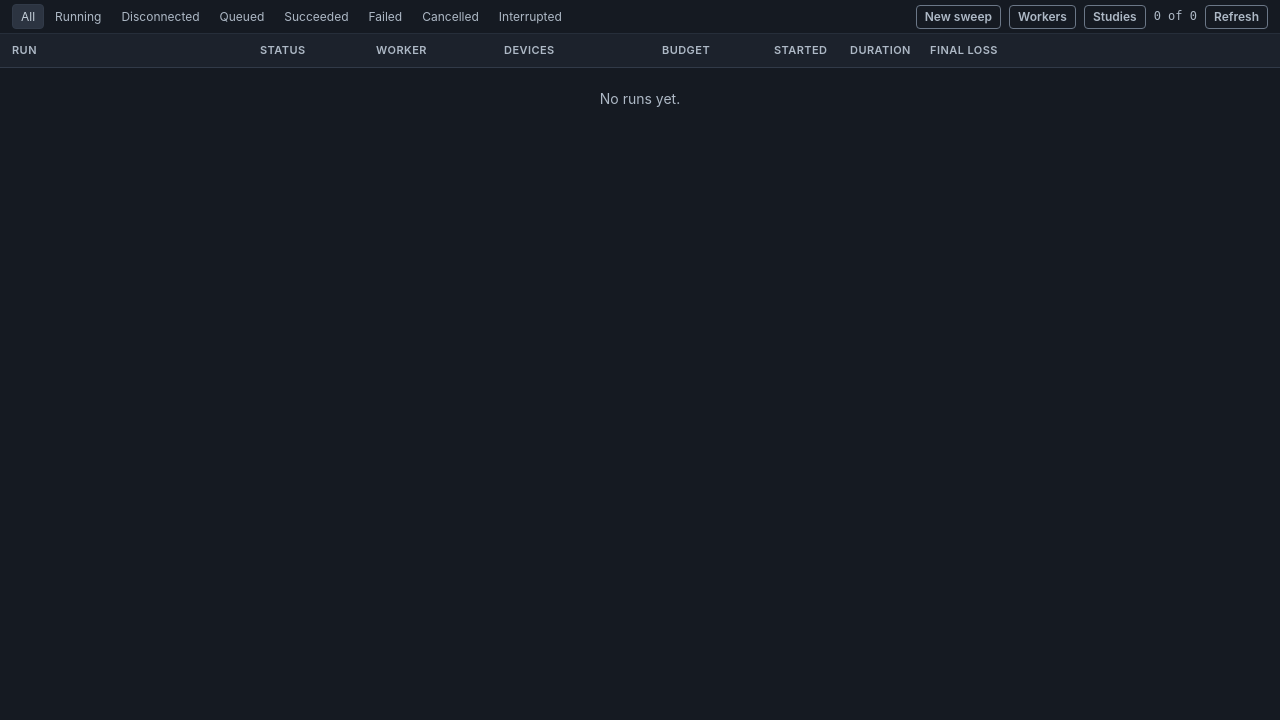
Test: RunsPanel — sweeps › stands the canvas shortcuts down on the click, before the dialog chunk loads (#777)
Click the button "New sweep": coordinates (958, 16) [916, 4, 1001, 28]
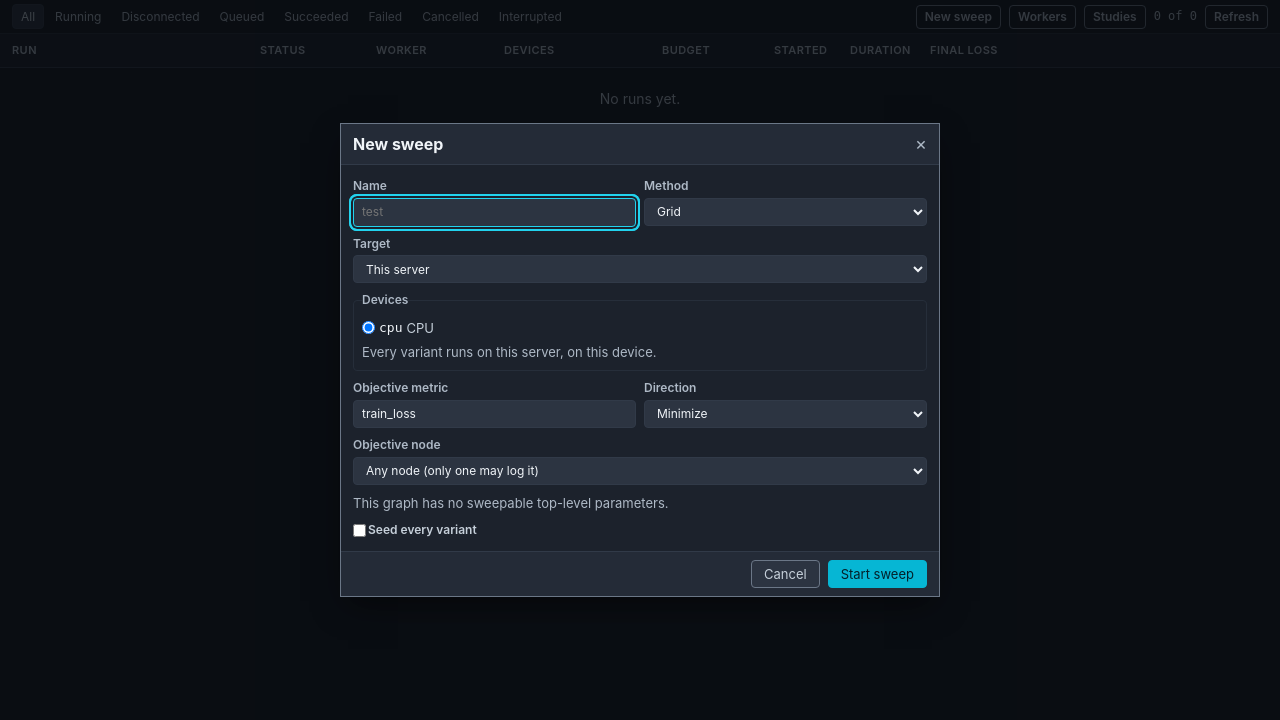
Check: the dialog "New sweep" is shown, box [340, 122, 940, 598]
